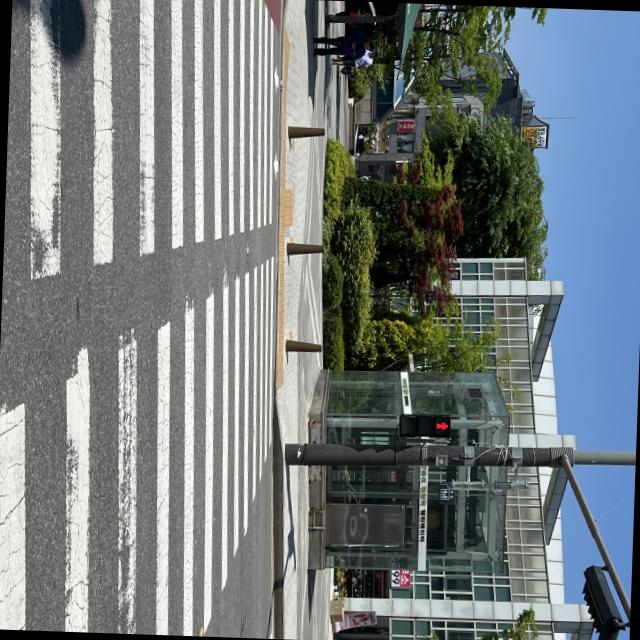red_light: (398, 408, 450, 442)
zebra: (0, 0, 302, 639)
